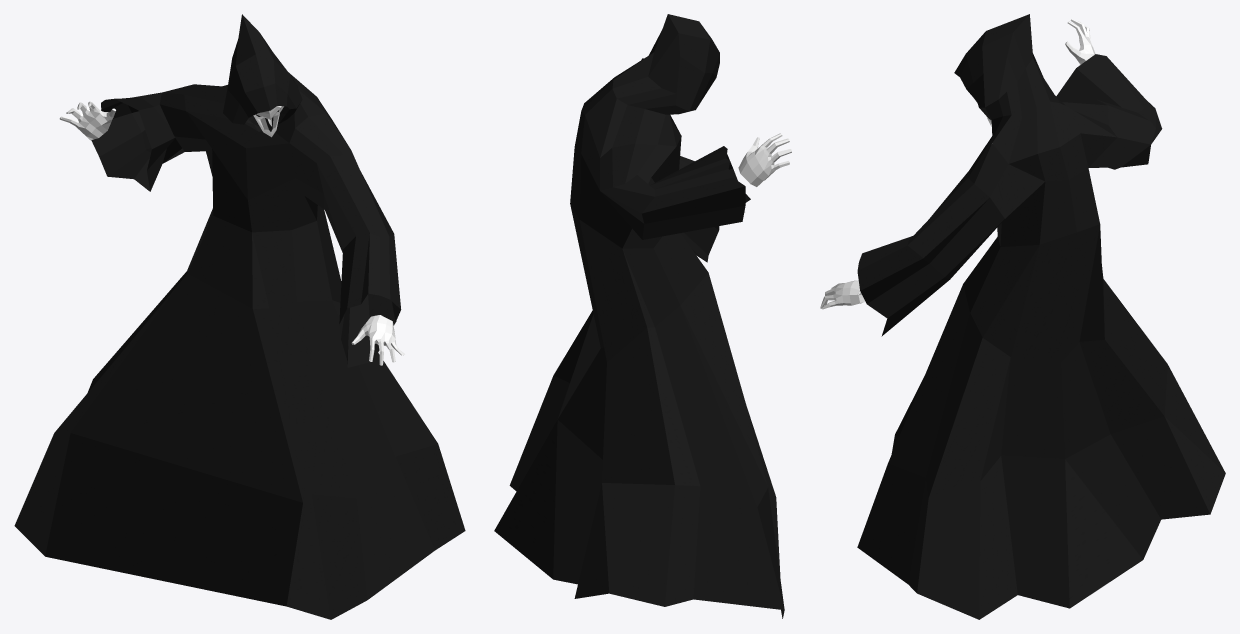
The model's file is ReaperDead(1).obj.
3 renders of one model, left to right at view 1: azimuth 30°, elevation 25°; view 2: azimuth 150°, elevation 25°; view 3: azimuth 270°, elevation 25°, orthographic. The views are drawn at different scales.
Parts seen in each view (by area): view 1: Plane003; view 2: Plane003; view 3: Plane003.
Boxes of the visible parts, <box> form: Plane003: <box>14,14,465,619</box>; Plane003: <box>494,14,791,618</box>; Plane003: <box>820,14,1225,619</box>.
Size of the model in its own units: 144 by 212 by 146.
